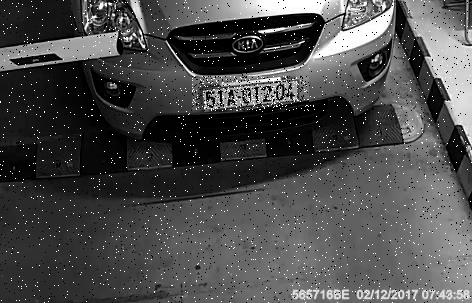License-plate: (193, 78, 310, 113)
